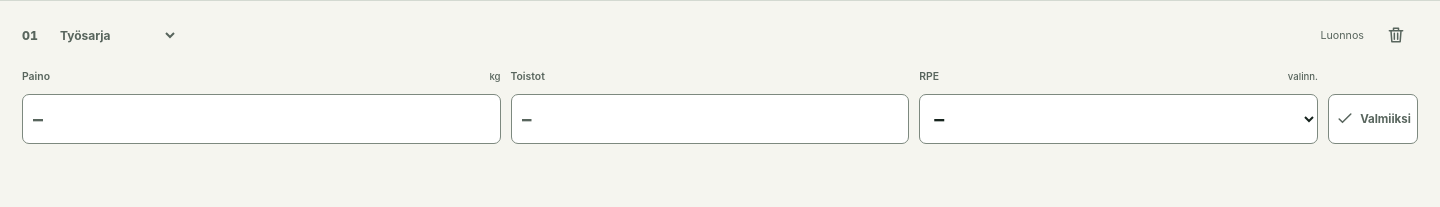
Test: saves the entered set in one completion action and displays backend estimates
Type "82,25" into the field labelled "Paino kg" at coordinates (261, 119), box [22,94,500,144]
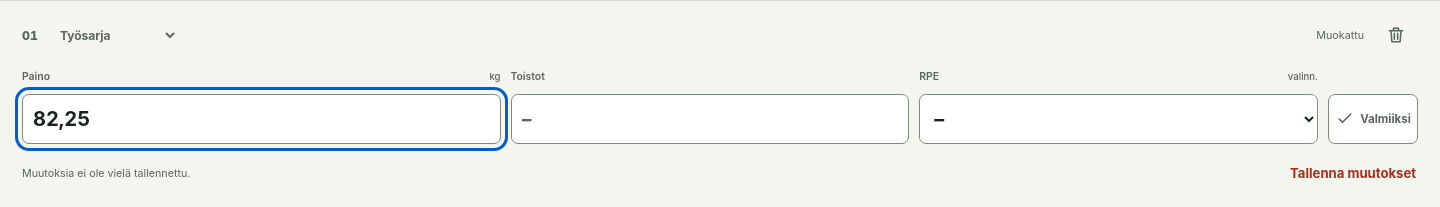
Type "6" into the field labelled "Toistot" at coordinates (710, 119), box [510,94,909,144]
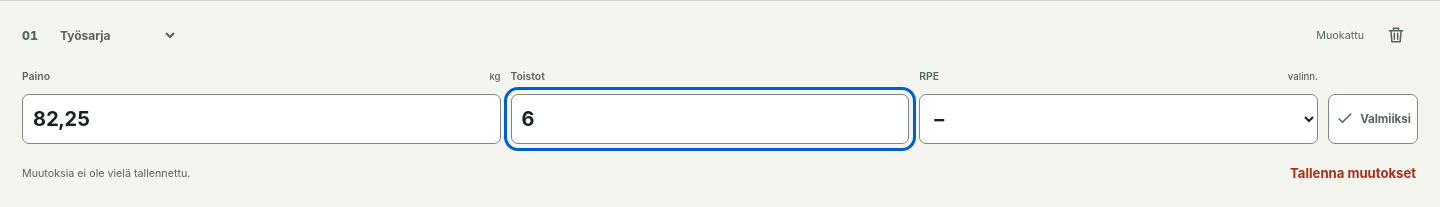
Select "8,5" in the dropdown labelled "RPE valinn." at coordinates (1119, 119), box [919,94,1318,144]
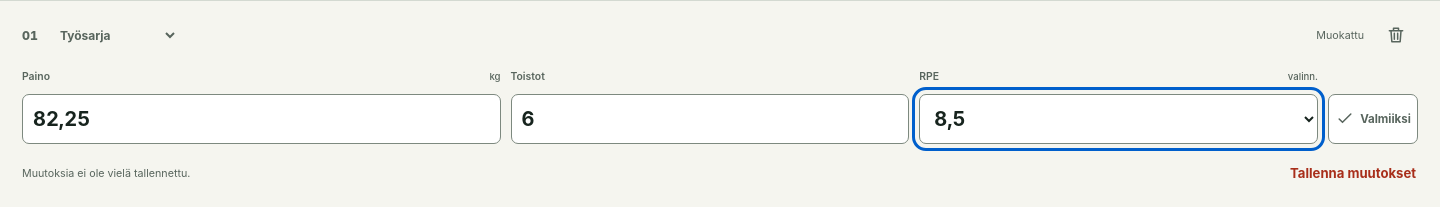
Click the button with aria-label "Merkitse sarja 1 valmiiksi" at coordinates (1373, 119), box [1328,94,1418,144]
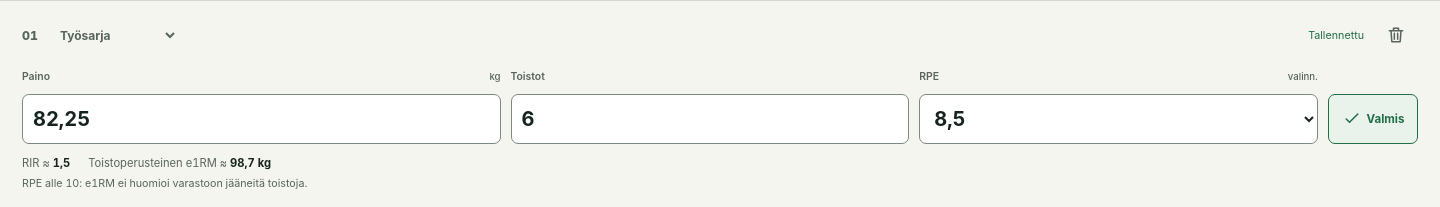
expect the text "98,7 kg" is shown: met, box [230,156,271,170]
expect the text "RPE alle 10: e1RM ei huomioi varastoon jääneitä toistoja." is shown: met, box [22,177,307,190]
expect the text "Muutoksia ei ole vielä" is gone: met
